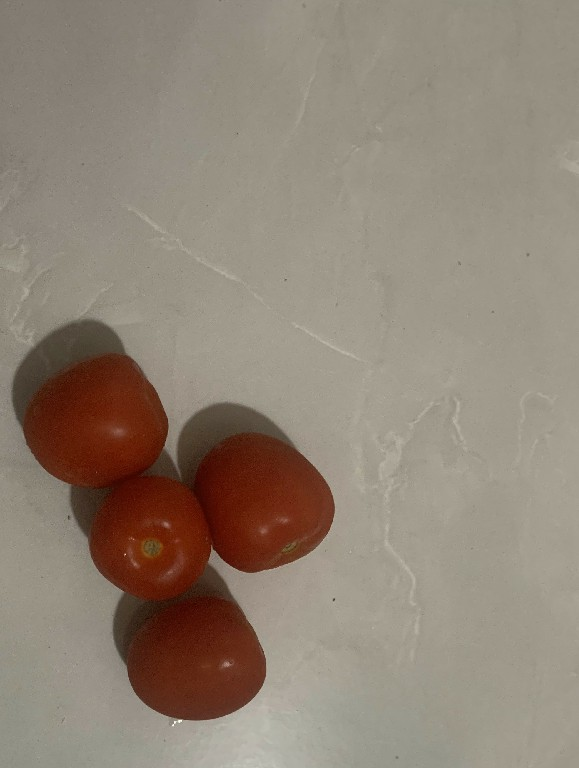OK: (192, 428, 334, 572), (20, 347, 170, 483), (123, 595, 271, 718), (86, 479, 213, 592)
